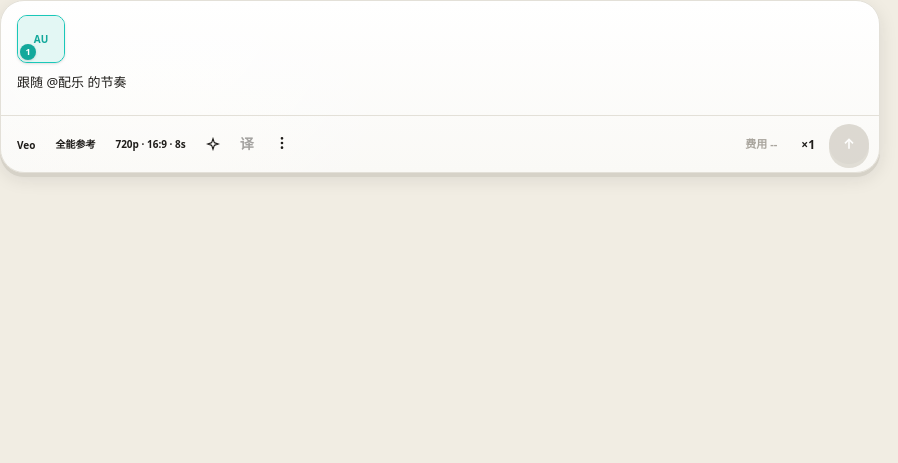
Test: workflow node overlays › blocks an @ media type that the final Provider route cannot receive
Expected: the button named "promptBar.generate" is disabled, 829,124 -> 869,164
Click the button titled "视频生成方式" at (75, 144), box 49,132 -> 101,156
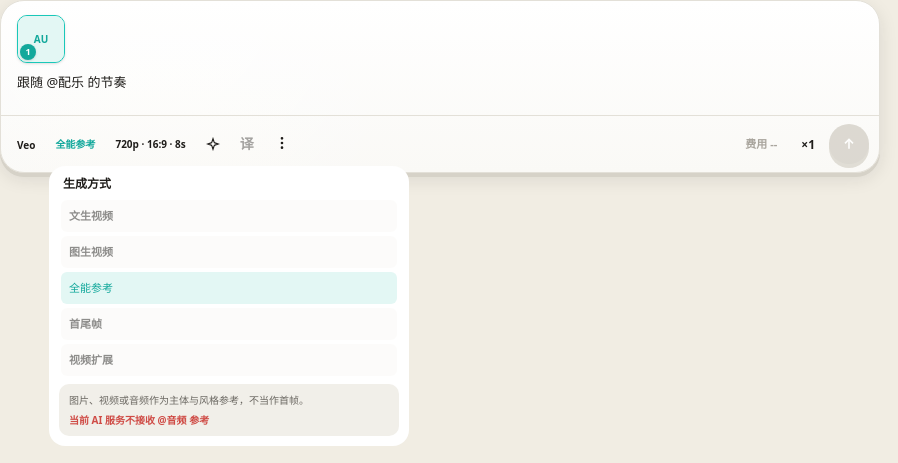
Expected: the text "当前 AI 服务不接收 @音频 参考" is shown, 69,413 -> 210,427
